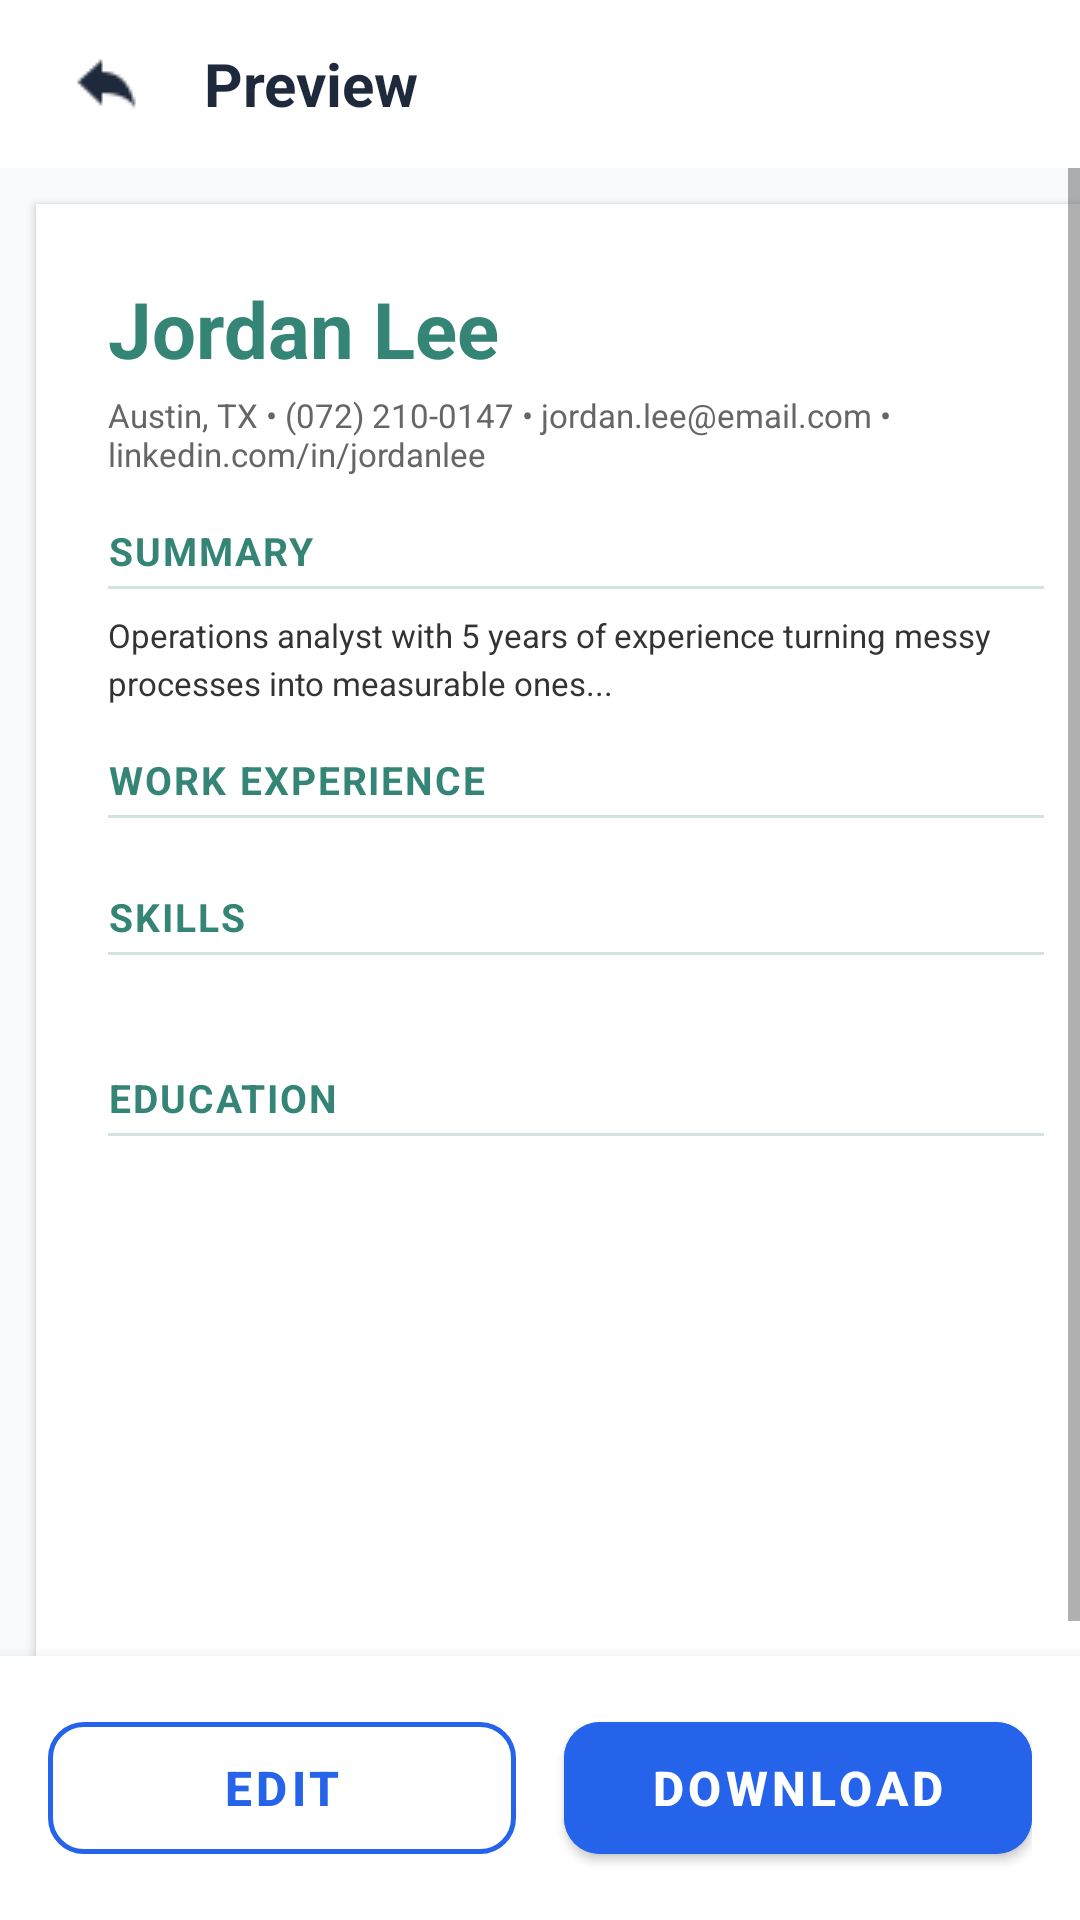

Named icons in this screenshot (1080x1920) and their bounding boxes, rect(x1, y1, x2, y2):
Back: rect(77, 59, 136, 108)
